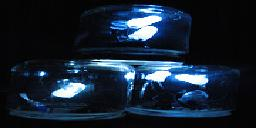LED: (9, 58, 135, 120), (71, 2, 193, 58), (137, 60, 242, 120)
